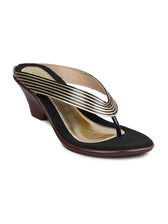shoes: (10, 61, 160, 160)
